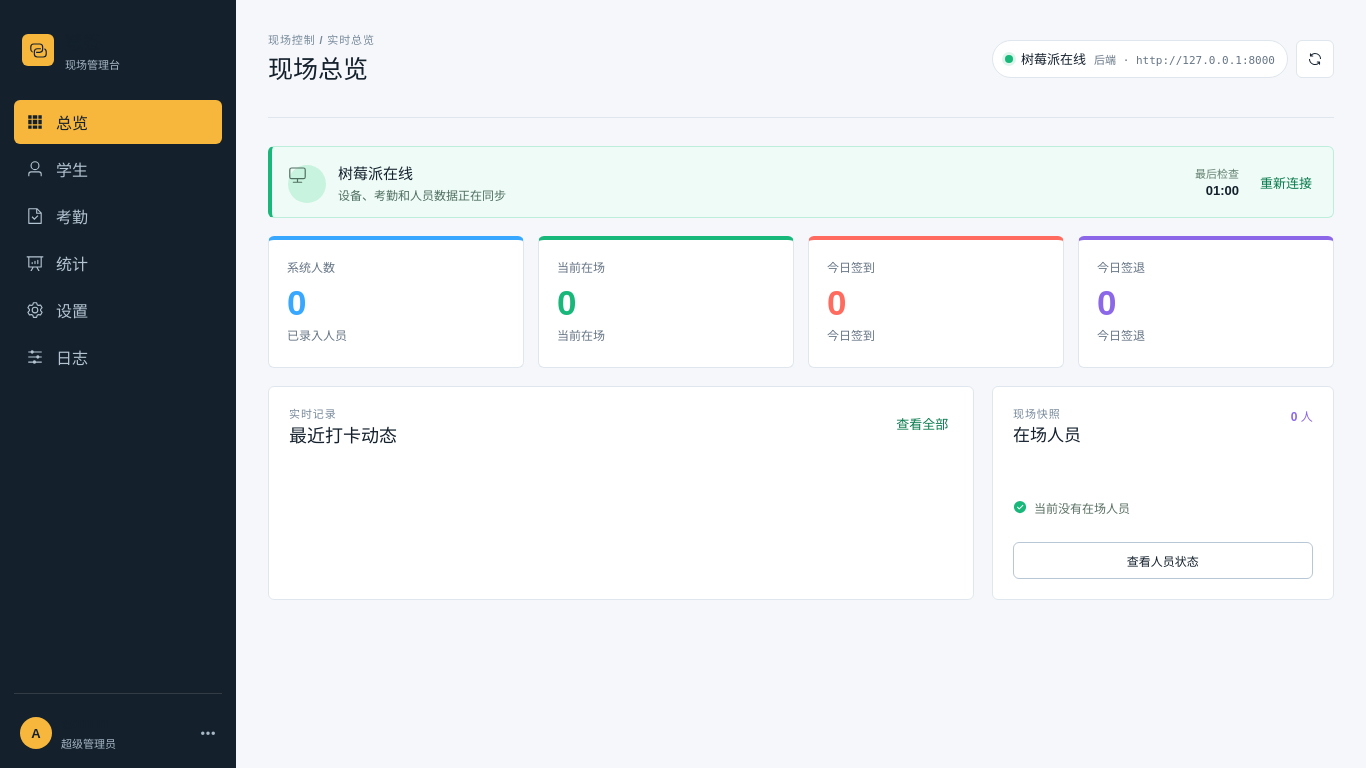
HuiQian admin dashboard › retries activity loading after a failed request when the log page is selected again
This screenshot has width=1366, height=768.
Click the button with class "nav-item" showing "日志".
click(118, 357)  # box [14,335,222,379]
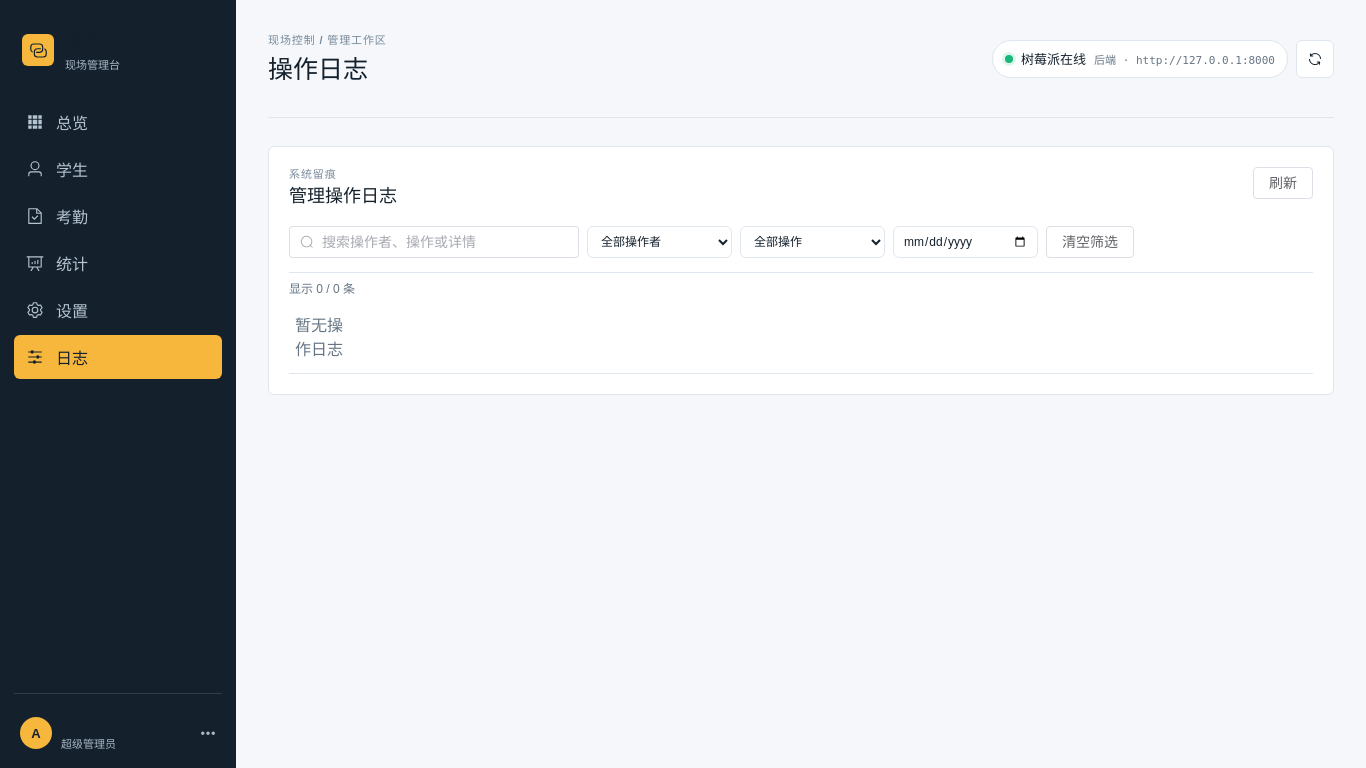
Click the button with class "nav-item" showing "日志".
click(118, 357)  # box [14,335,222,379]
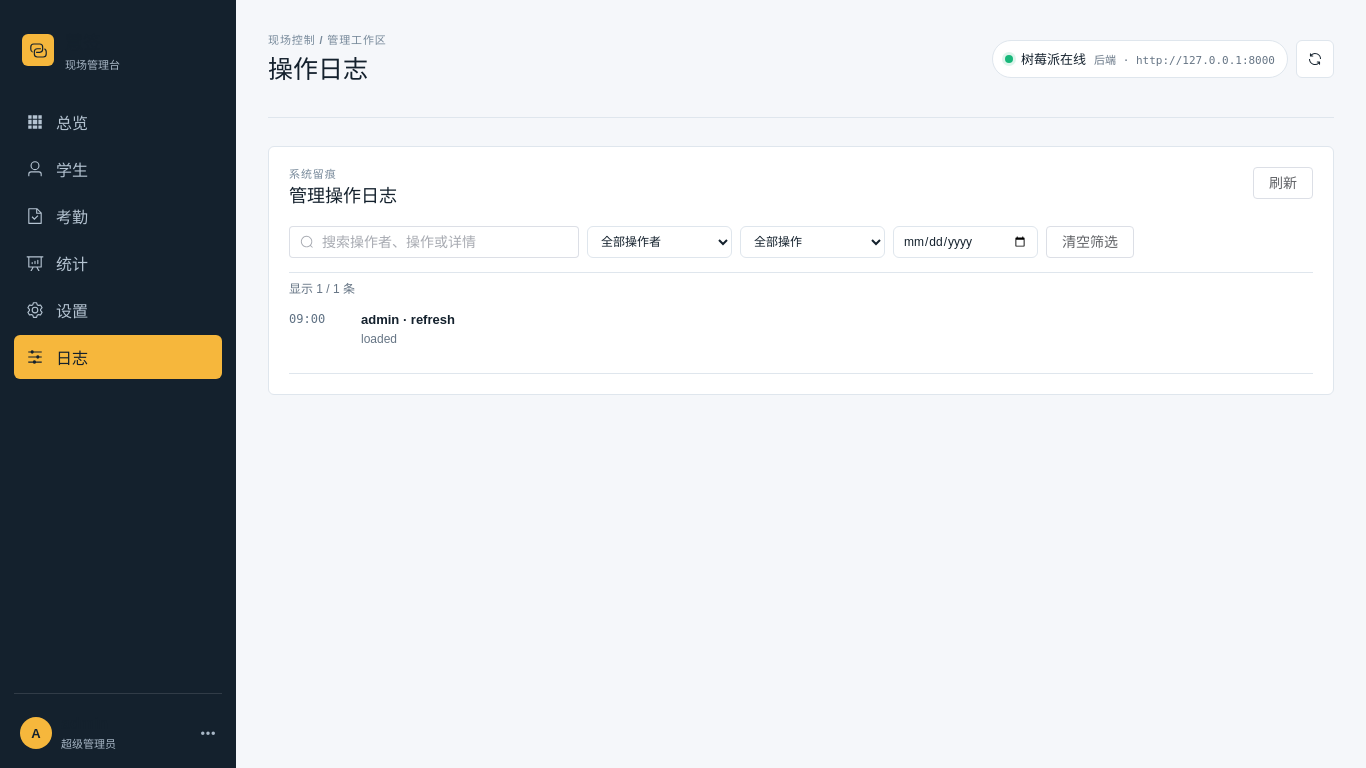
Now the text "loaded" is shown, box [361,332,397,346]
